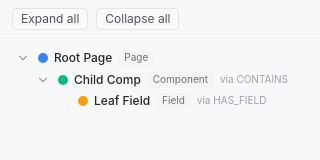
Scenario: IndentedTreeView › collapses and re-expands a subtree via the chevron
This screenshot has width=320, height=160.
Click the button named "Collapse Root Page": coordinates (23, 58) [14,49,32,67]
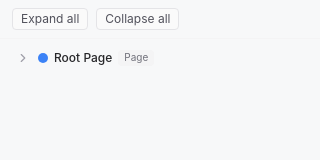
Now the button "Child Comp" is gone
Now the button "Leaf Field" is gone
Click the button named "Expand Root Page": coordinates (23, 58) [14,49,32,67]
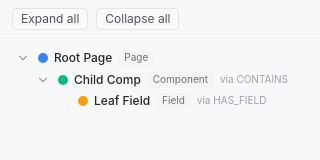
Now the text "Child Comp" is shown, box [74,72,141,88]
